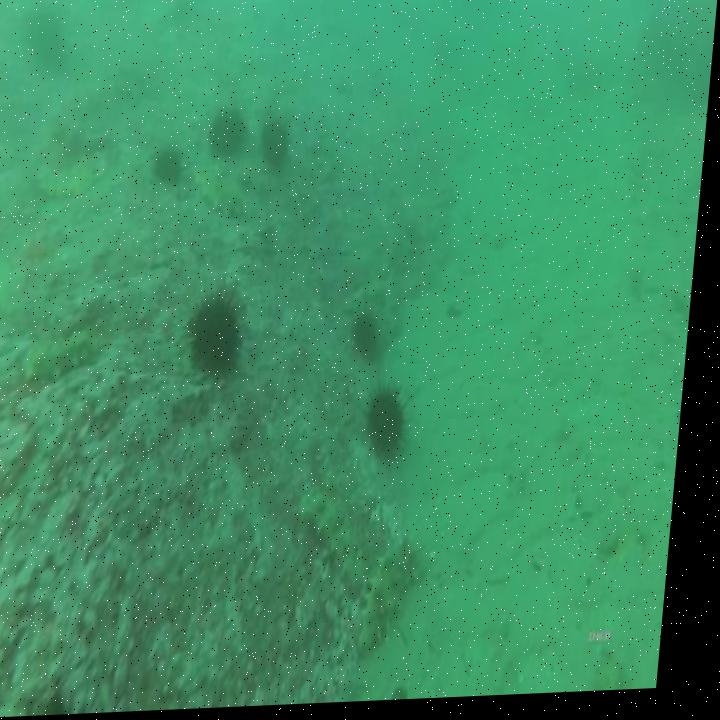echinus: (188, 283, 256, 383), (367, 381, 424, 476), (21, 5, 72, 81), (207, 103, 251, 172), (356, 302, 392, 369), (259, 114, 296, 179), (151, 142, 193, 197)
holothurian: (299, 480, 387, 607), (358, 533, 439, 667), (25, 322, 111, 396), (35, 147, 113, 208), (47, 99, 115, 165), (193, 165, 255, 225), (346, 277, 398, 323)
